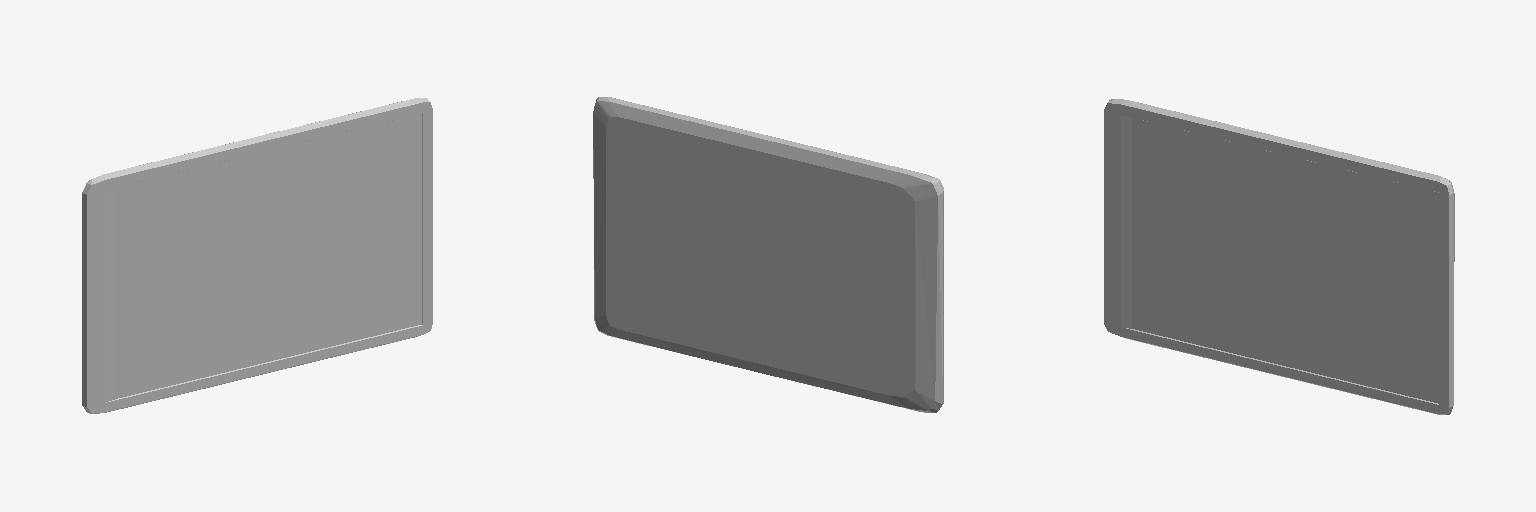
File: TabletObj.obj
3 renders of one model, left to right at view 1: azimuth 30°, elevation 25°; view 2: azimuth 150°, elevation 25°; view 3: azimuth 330°, elevation 25°, orthographic.
Visible parts, largest first — view 1: pCube1; view 2: pCube1; view 3: pCube1.
Part boxes in pixels (left/top/right/bottom): pCube1: left=82, top=98, right=432, bottom=413; pCube1: left=593, top=97, right=943, bottom=412; pCube1: left=1104, top=99, right=1454, bottom=414.
Bounding box in the file's own units: 3.3 × 2.16 × 0.1277.